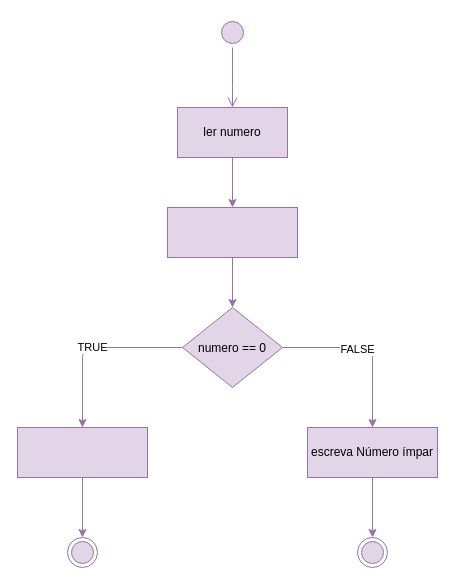
This 455x585 diagram has some shape labels left out. Here are the shapes that lost their labels. From the top down, the centre of each, then its label:
At [232,232]: "numero = numero % 2".
At [82,452]: "escreva Número par".
